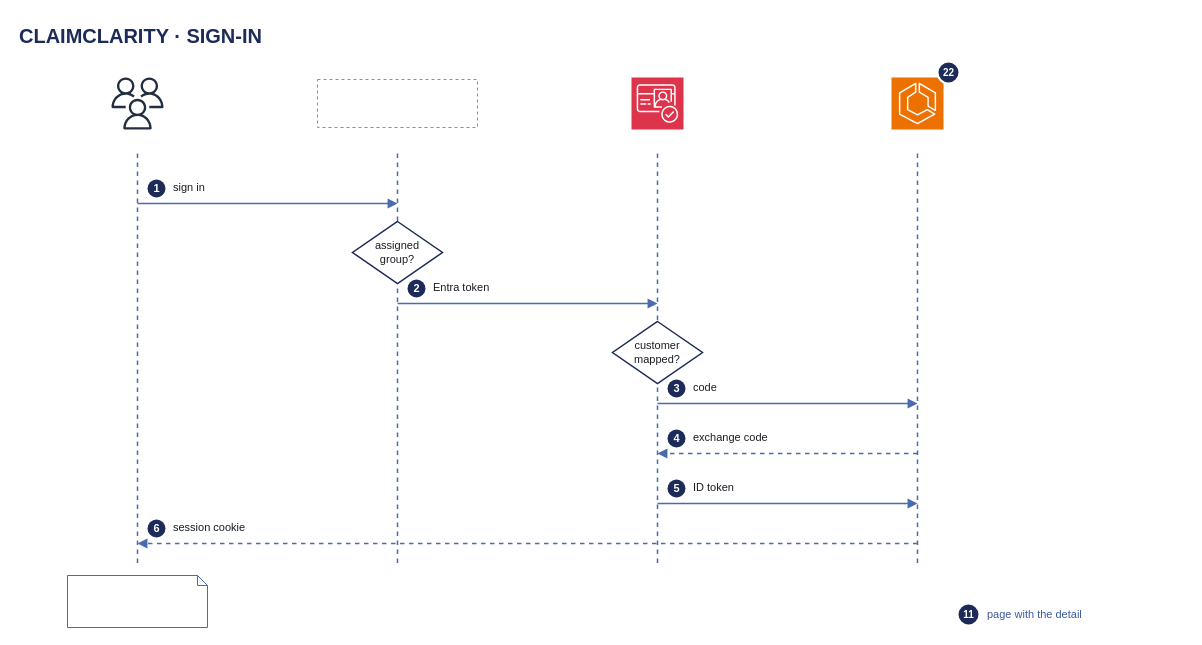
Image size: 1202x645. Some labels were removed from this diagram. The box of each missing label's shape, as (x1, y1, x2, y2) in pixels:
Amazon Cognito: (630, 76, 684, 130)
Chat API: (890, 76, 944, 130)
ID token in session cookie: (66, 574, 208, 628)
Microsoft Entra ID: (316, 78, 478, 128)
XiFin user: (111, 77, 163, 129)
